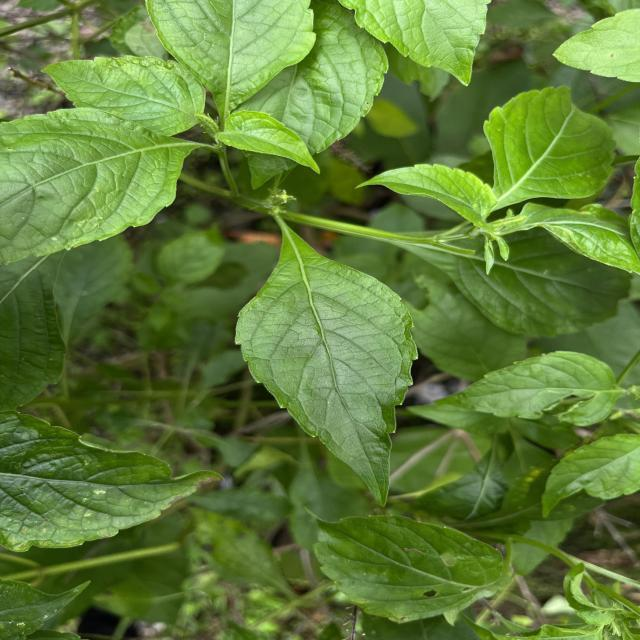Ocimum gratissimum: (230, 226, 420, 509), (0, 105, 200, 269), (296, 498, 514, 628), (145, 0, 319, 118), (478, 79, 622, 219)
